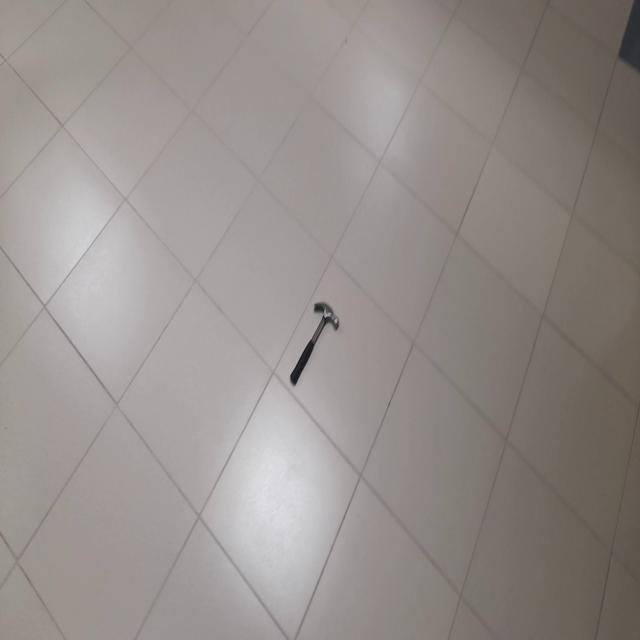hammer: (290, 302, 339, 384)
